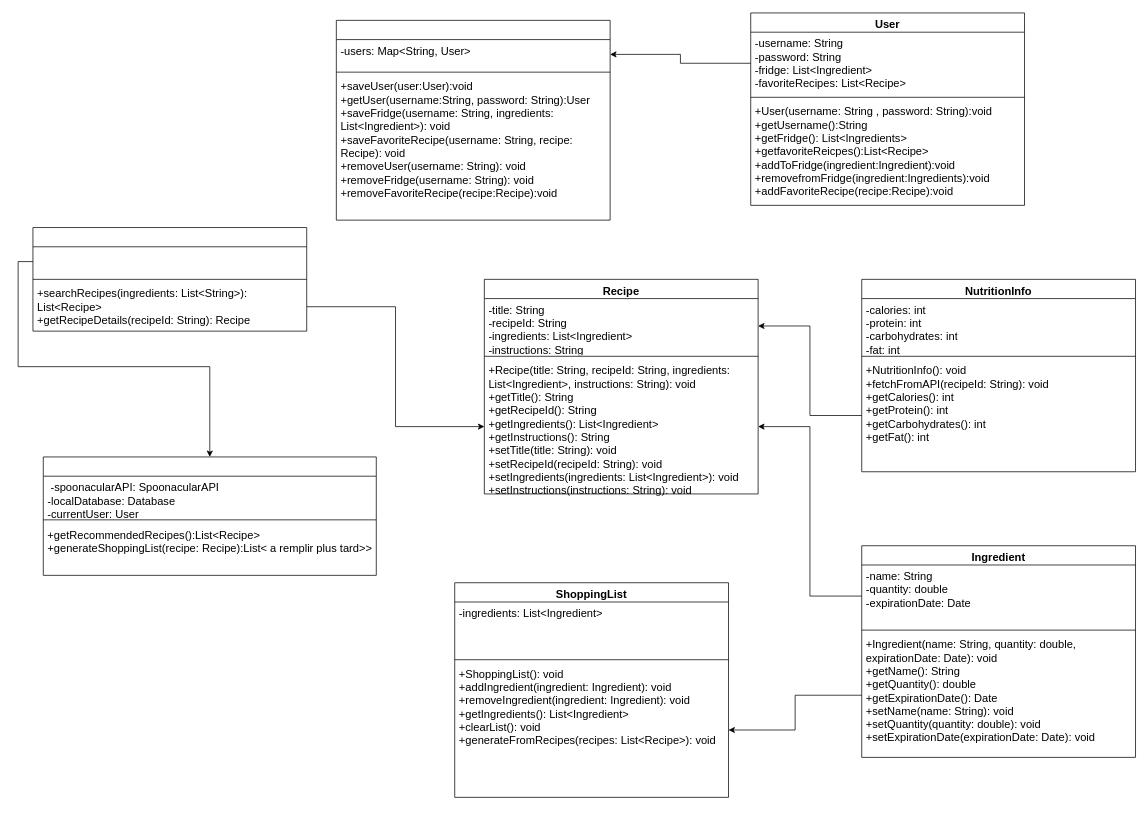
The diagram is 1148 pixels wide and 813 high, and some of its shapes have lost their labels. Each missing label, with the box of its shape:
<<interface>> SpoonacularAPI: (32, 227, 307, 331)
Database: (336, 20, 610, 220)
RecipeFinder: (43, 456, 376, 575)
